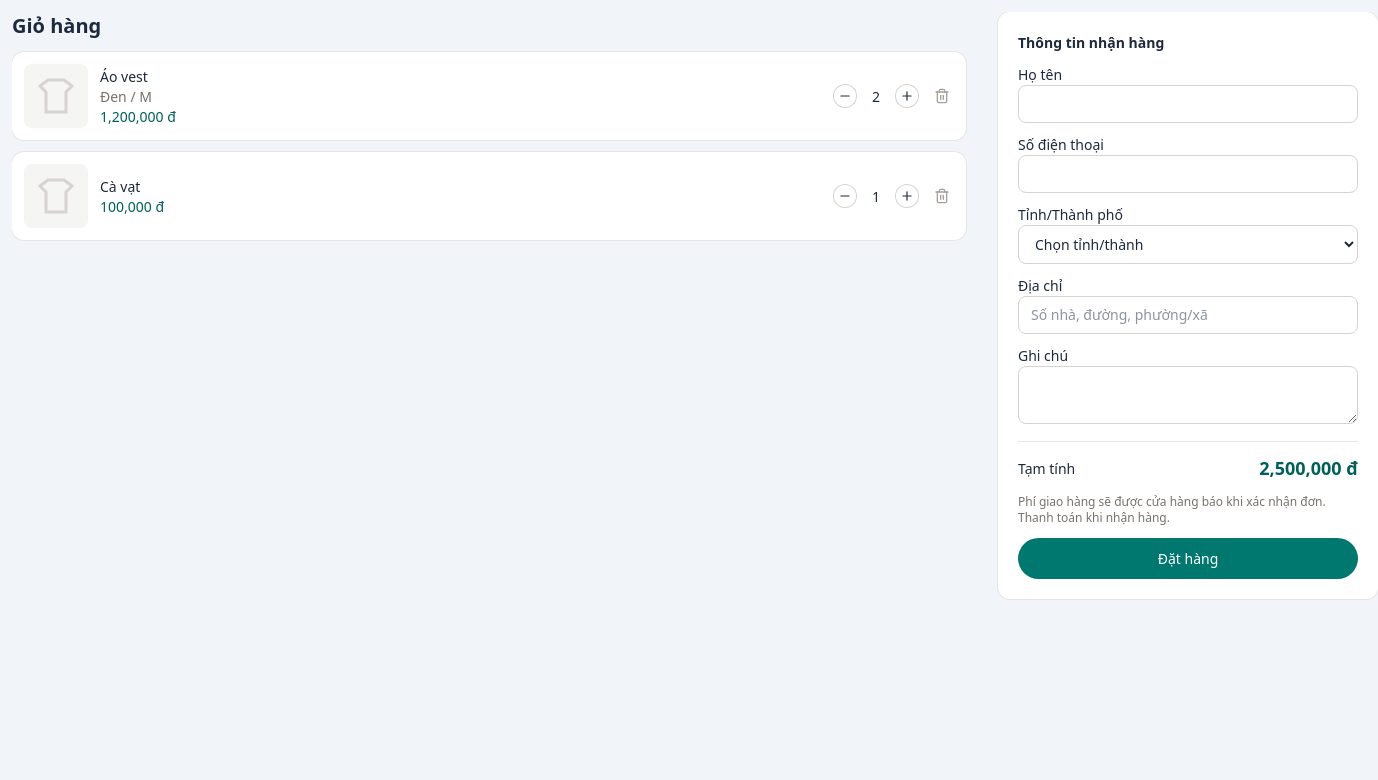
checkout posts the lines and the customer, then shows the order code
Check: the text with test id "checkout-total" shows "2,500,000", box [1259, 456, 1342, 480]
Type "Trần Thị Hoa" into the field labelled "Họ tên".
click(1188, 104); type("Trần Thị Hoa")  # box [1018, 85, 1358, 123]
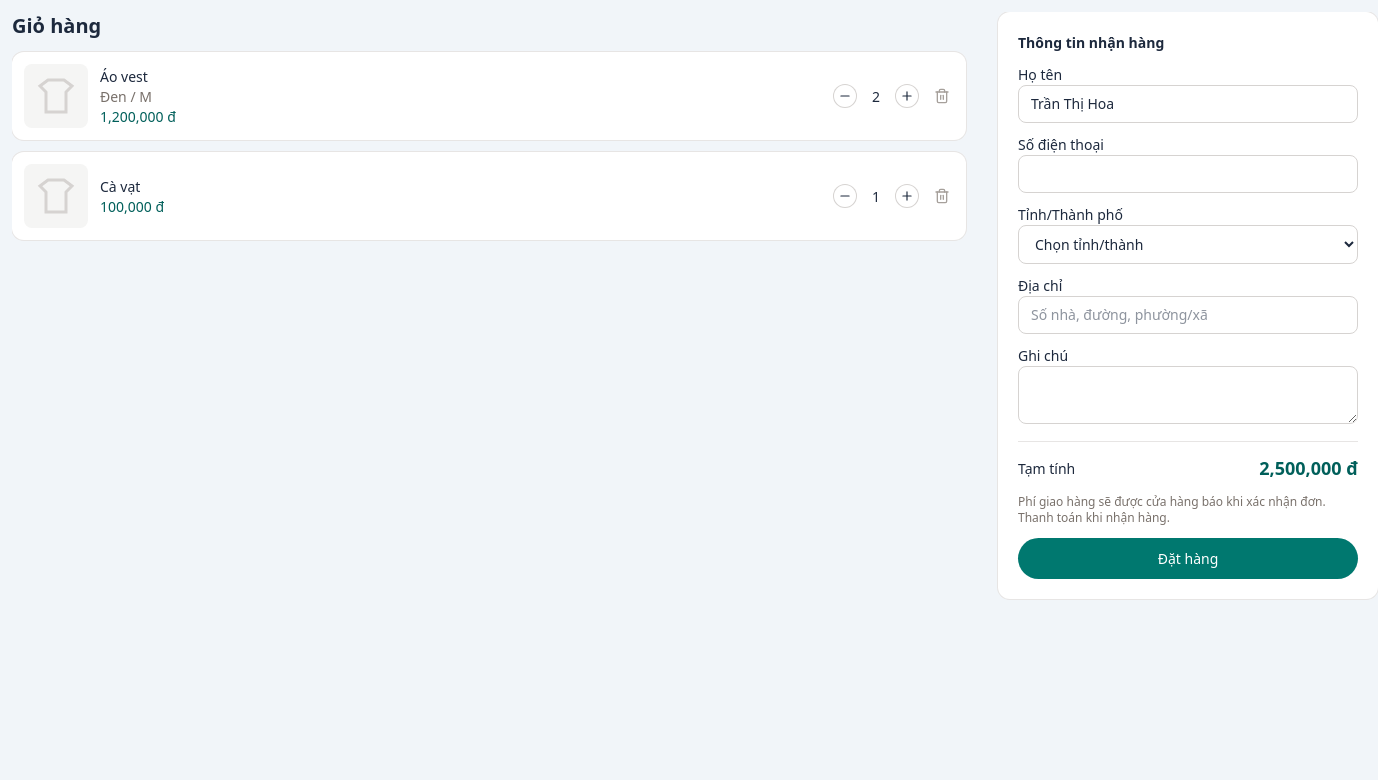
Type "0912345678" into the field labelled "Số điện thoại".
click(1188, 174); type("0912345678")  # box [1018, 155, 1358, 193]
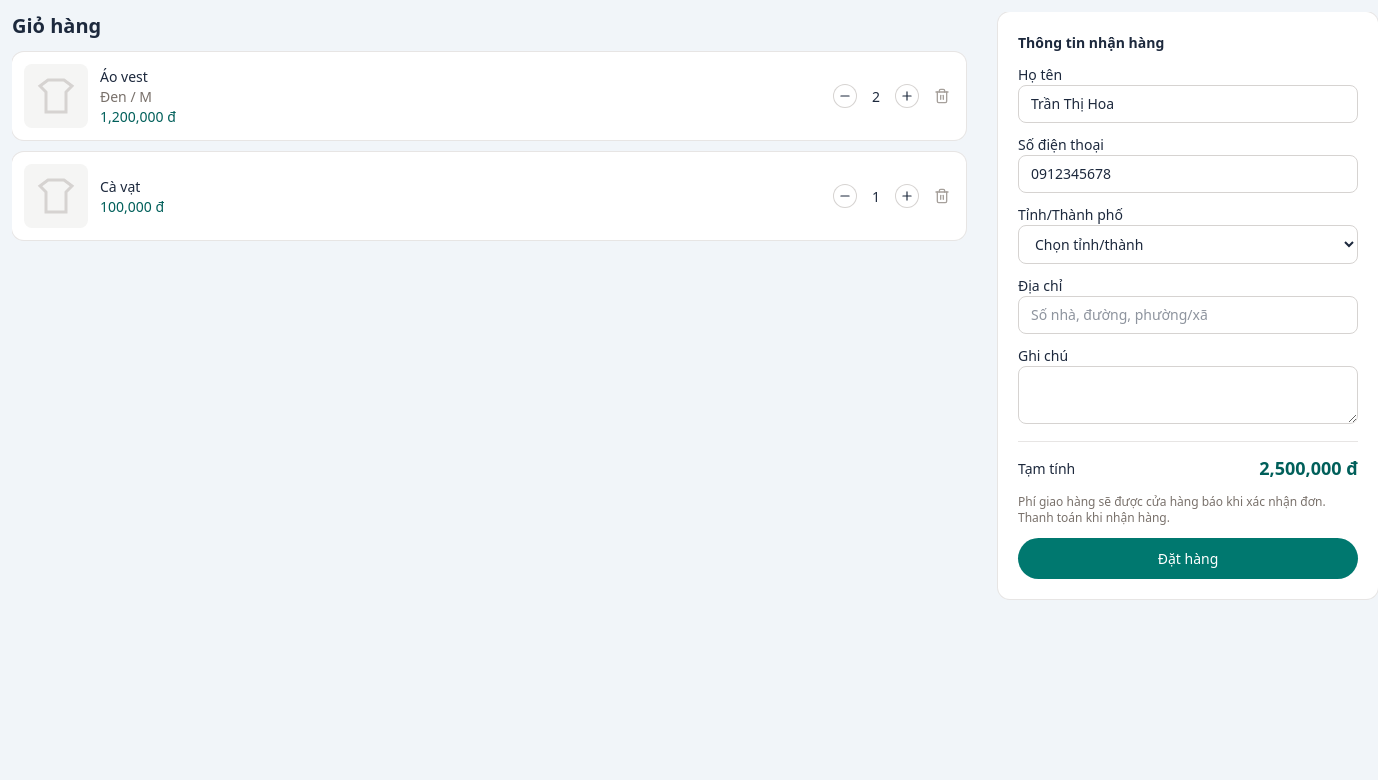
Type "5 Lý Thường Kiệt" into the field labelled "Địa chỉ".
click(1188, 315); type("5 Lý Thường Kiệt")  # box [1018, 296, 1358, 334]
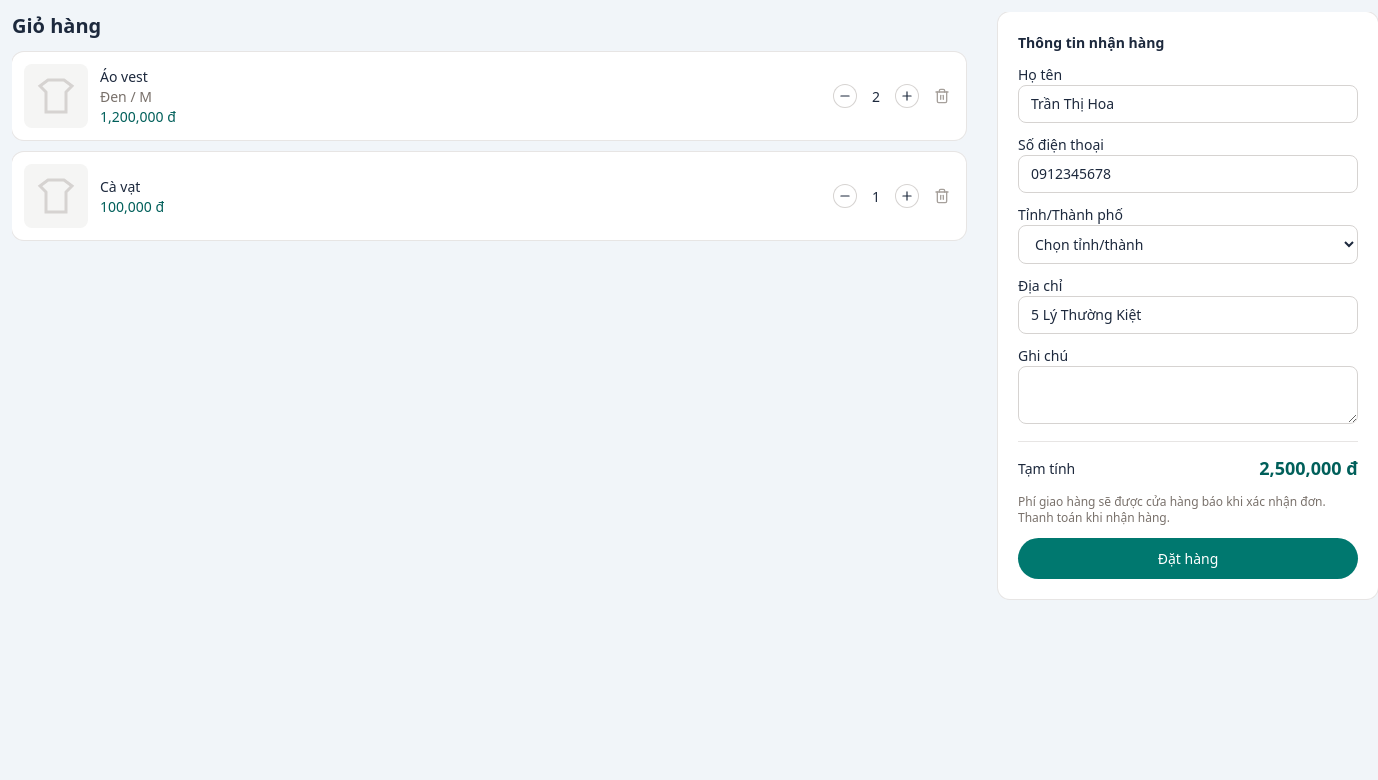
Select "TP. Hà Nội" in the dropdown labelled "Tỉnh/Thành phố" at (1188, 244), box [1018, 225, 1358, 264]
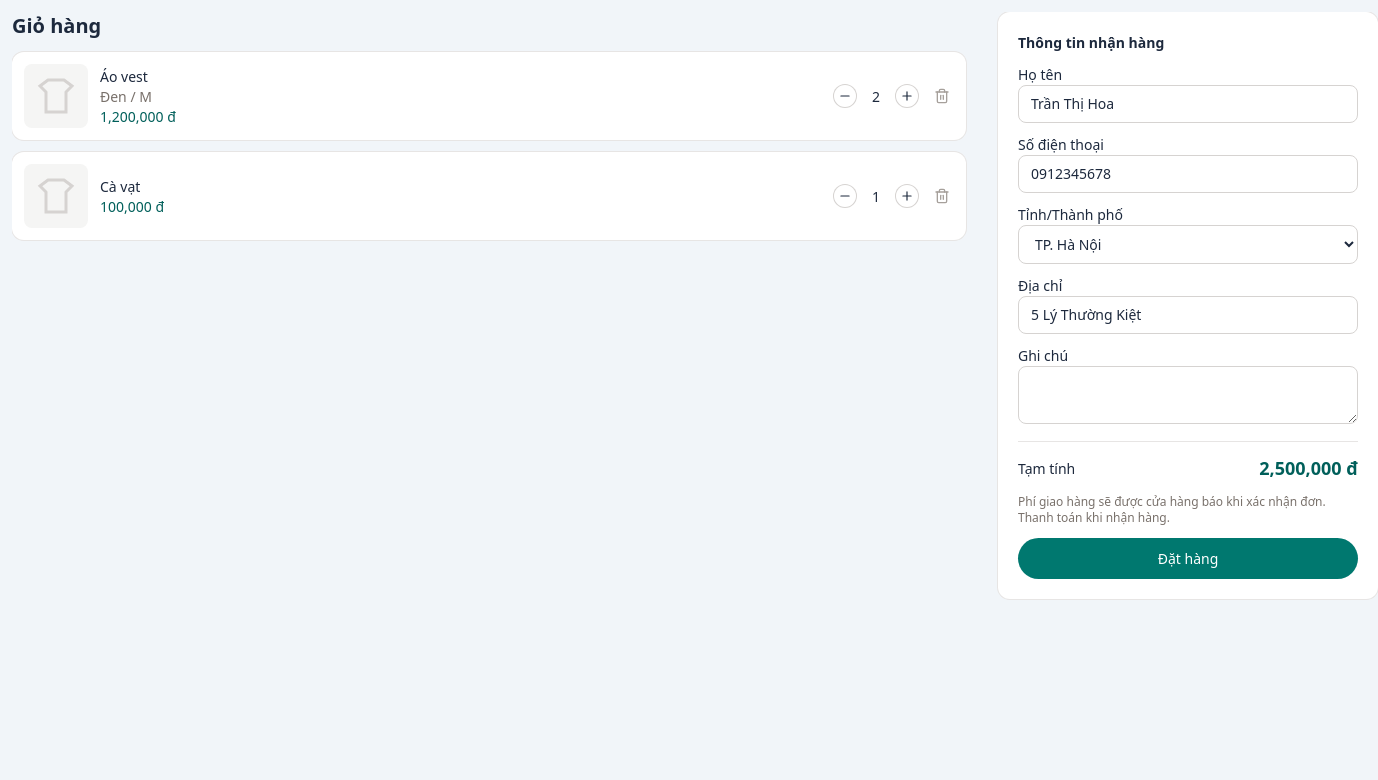
Click the button "Đặt hàng".
click(1188, 558)  # box [1018, 538, 1358, 579]
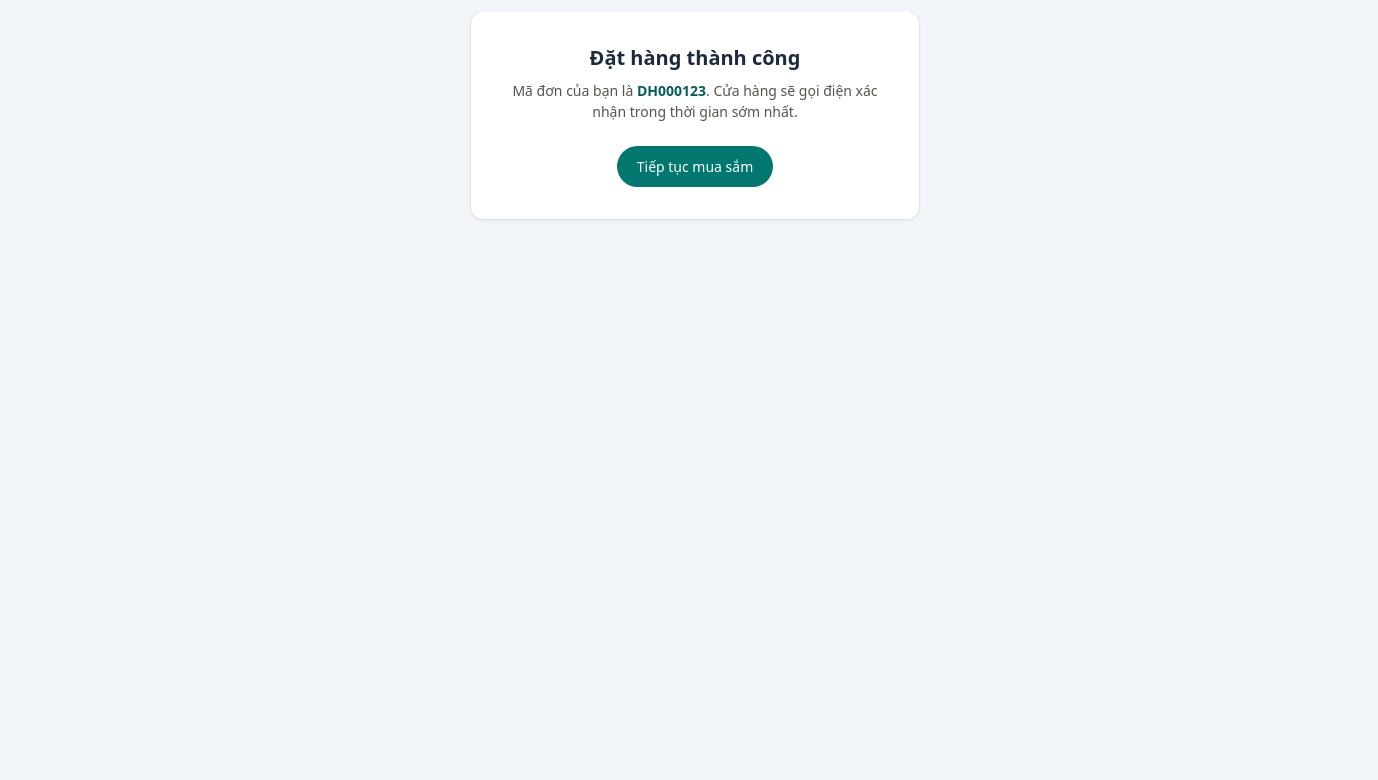
Check: the text "DH000123" is shown, box [637, 81, 706, 100]
